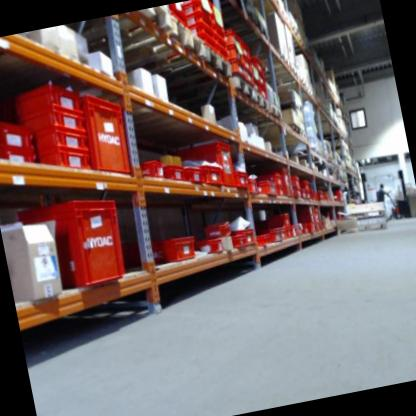pallet: (73, 8, 209, 86), (130, 36, 235, 101), (61, 5, 173, 57), (168, 72, 261, 121), (249, 121, 307, 151), (250, 89, 274, 116), (269, 105, 283, 124), (277, 49, 291, 68)
pallet_truck: (379, 165, 414, 222), (354, 170, 375, 204)
small_load_carrier: (16, 192, 128, 298), (74, 82, 138, 183), (4, 70, 85, 126), (175, 136, 239, 199), (8, 97, 89, 145), (25, 120, 90, 159), (31, 140, 94, 178), (150, 234, 197, 266), (0, 109, 32, 153), (0, 137, 35, 173), (129, 157, 164, 182), (183, 9, 213, 35), (194, 235, 227, 257), (180, 0, 211, 23), (200, 157, 222, 189), (179, 158, 204, 186), (253, 168, 283, 190), (265, 208, 292, 231), (199, 217, 231, 236), (220, 43, 244, 68), (187, 21, 215, 42), (162, 158, 185, 182), (255, 178, 278, 202), (234, 225, 256, 250), (221, 25, 243, 50), (279, 164, 293, 199), (196, 33, 215, 56), (211, 4, 226, 29), (263, 224, 279, 246), (254, 56, 267, 81), (233, 166, 247, 189), (301, 218, 317, 237), (228, 59, 244, 78), (239, 39, 251, 62), (229, 235, 246, 251), (288, 171, 303, 189), (247, 177, 261, 196), (254, 231, 270, 247), (214, 23, 228, 40), (241, 55, 253, 73), (256, 70, 268, 88), (216, 48, 229, 63), (215, 34, 227, 50), (272, 185, 286, 198), (291, 187, 304, 201), (275, 225, 287, 240), (244, 73, 254, 91), (284, 225, 295, 238), (259, 84, 268, 99)
